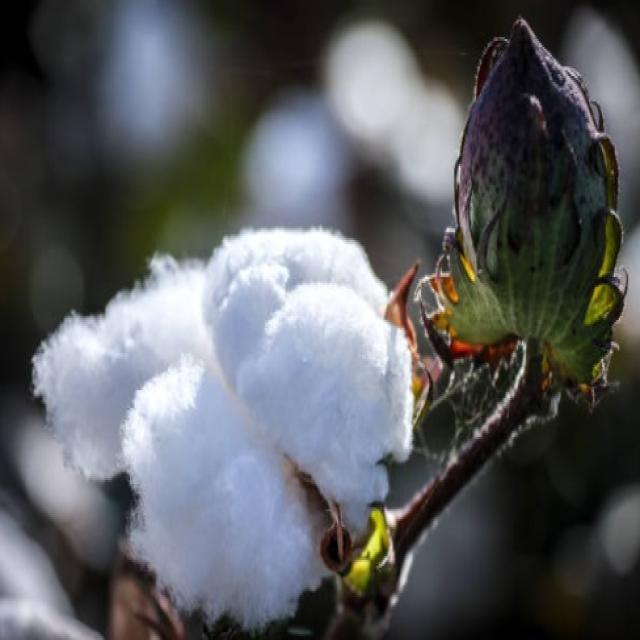Early Boll: (452, 26, 626, 346)
Matured Cotton Boll: (40, 224, 392, 588)
